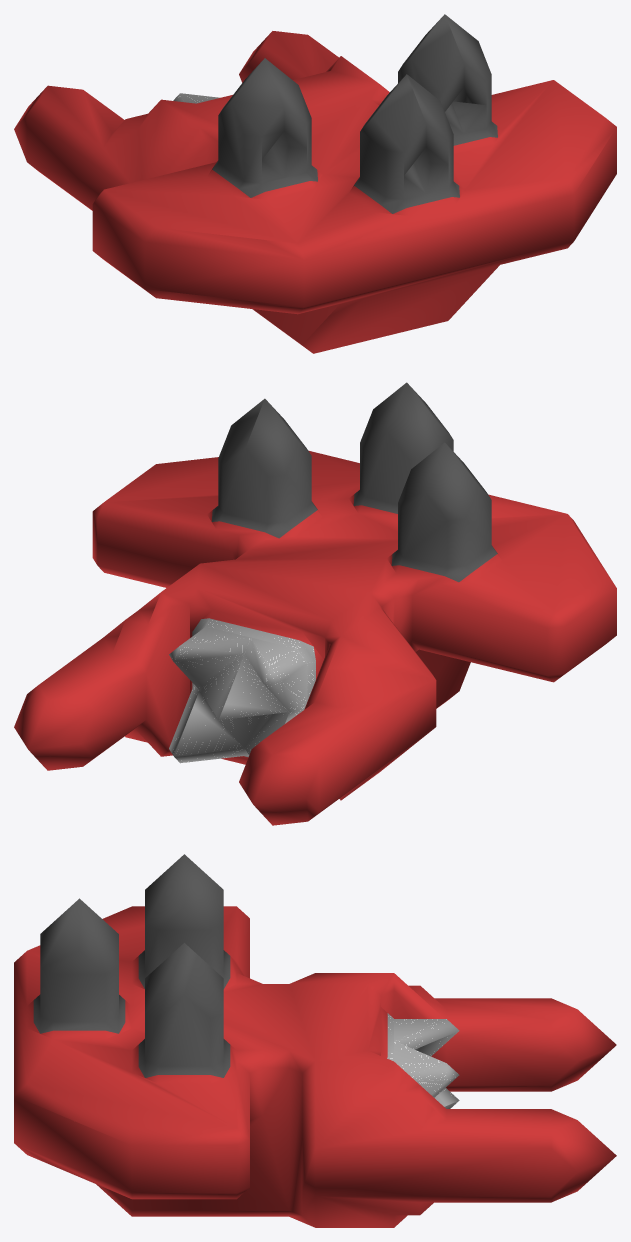
The model's file is fulkreykk-1-gannan-class.obj.
The picture shows the model from 3 angles, top to bottom: view 1: azimuth 30°, elevation 25°; view 2: azimuth 150°, elevation 25°; view 3: azimuth 270°, elevation 25°; orthographic projection.
Bounding box in the file's own units: 21 × 12 × 23.
1 material, 1 textured.
